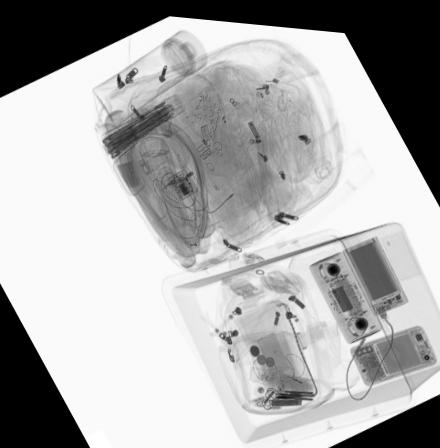Powerbank: (341, 228, 407, 308)
